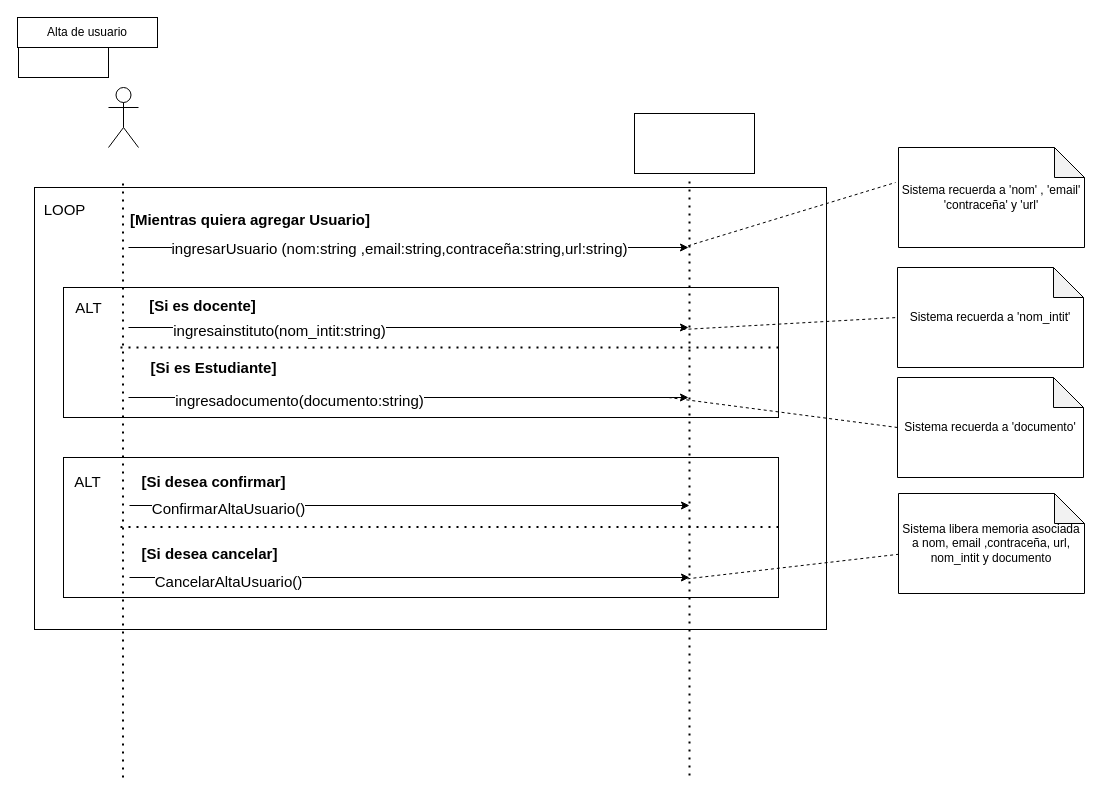
The diagram is 1102 pixels wide and 797 high, and some of its shapes have lost their labels. The shapes that lost their labels are listed below. From the top down, each one's box as (x1, y1, x2, y2) in pixels, then its label:
(18, 46, 108, 78): Con memoria
(108, 86, 138, 148): Administrador
(634, 112, 754, 174): :Sistema
